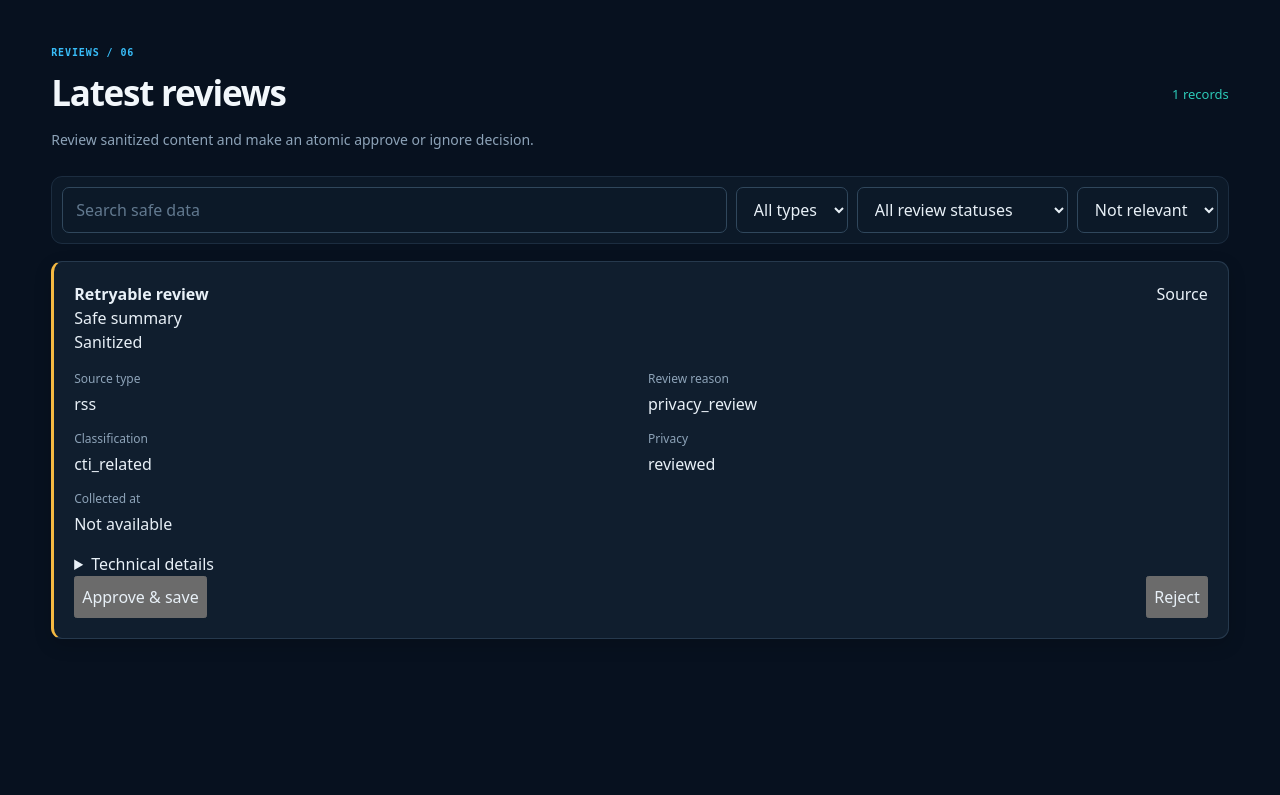
Test: external reviews states › does not show success or remove the visible item when confirmed processing fails
Click the button "Approve & save".
click(140, 597)  # box [74,576,207,618]
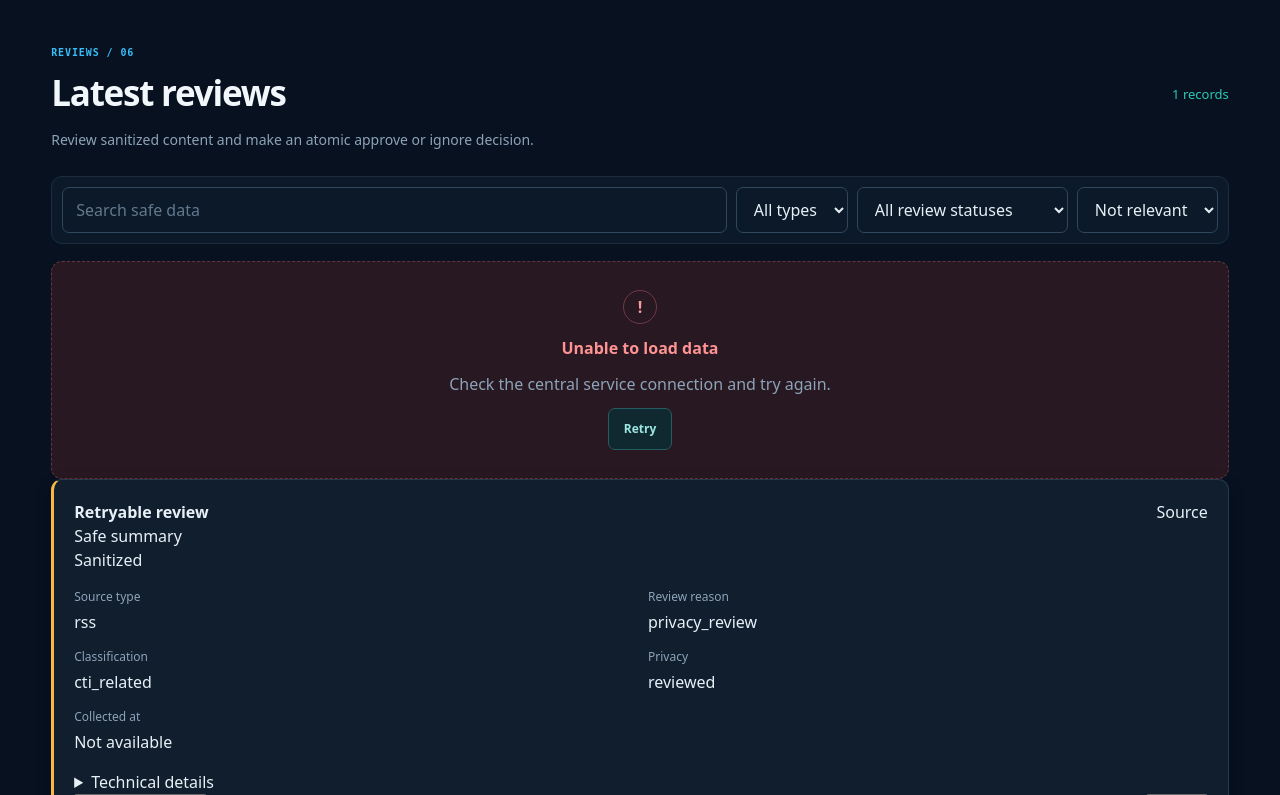
Check: the text "Retryable review" is shown, box [74,500,209,524]
Check: the message is shown, box [51,261,1229,479]
